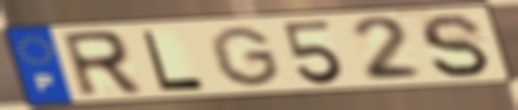2: (347, 15, 427, 86)
5: (278, 18, 346, 87)
G: (206, 25, 285, 88)
L: (139, 28, 208, 93)
R: (56, 28, 147, 101)
S: (416, 12, 495, 80)
